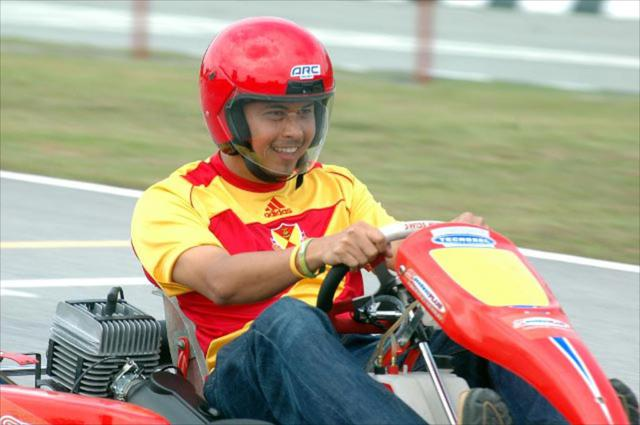helmet: (192, 21, 341, 149)
